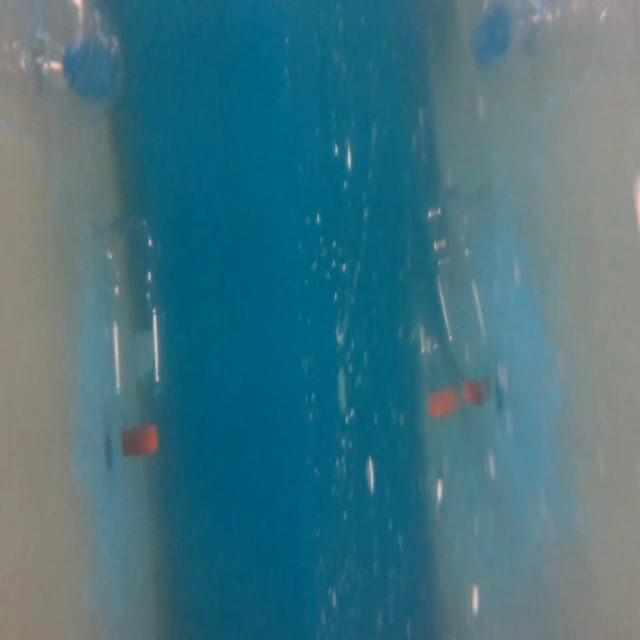plastic bottle: (97, 204, 175, 464)
